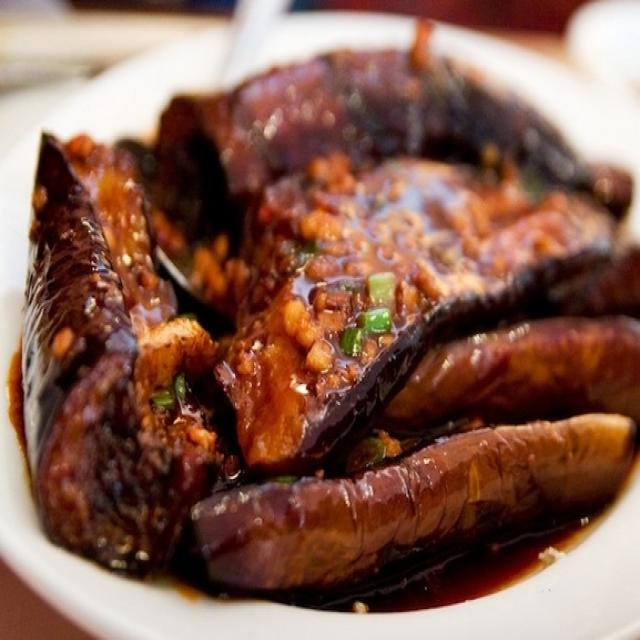鸡蛋料理: (25, 53, 628, 594)
